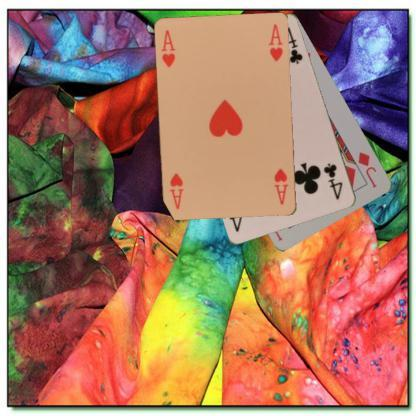4c: (322, 160, 344, 202)
Ah: (158, 27, 177, 69), (272, 166, 290, 206)
Jd: (356, 149, 378, 190)
